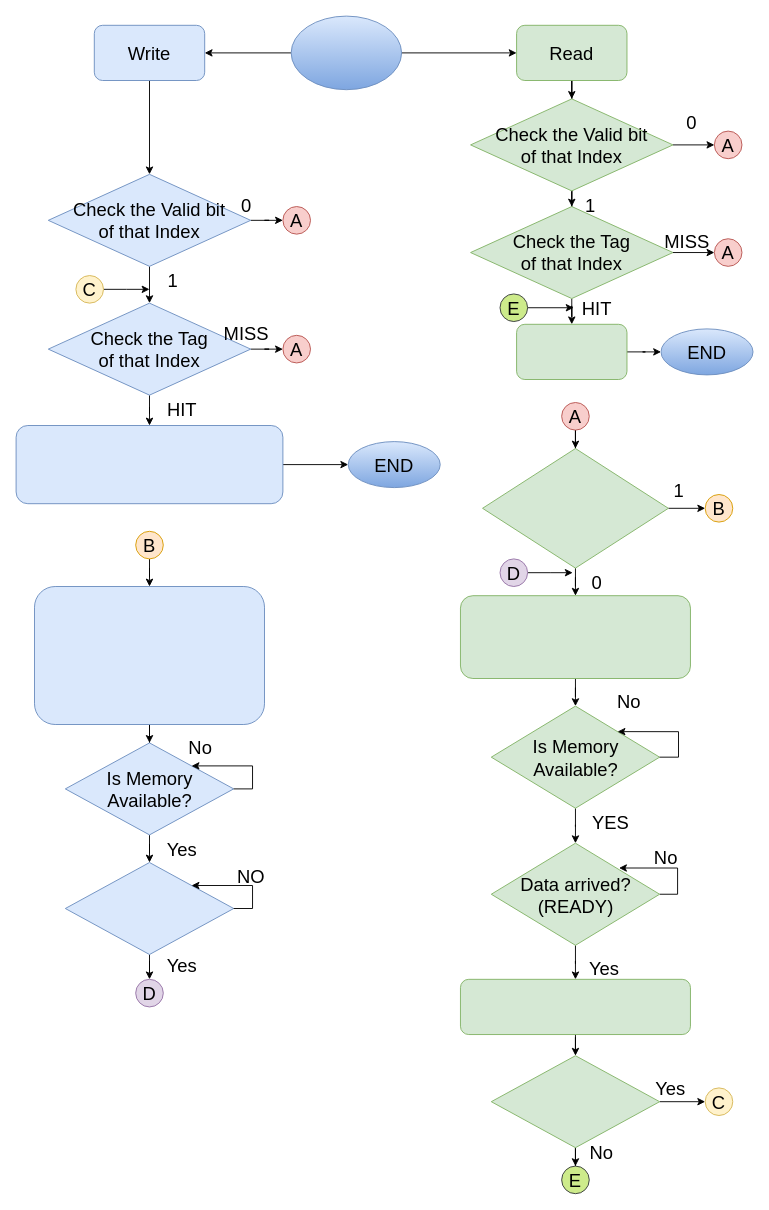
The diagram is 769 pixels wide and 1210 high, and some of its shapes have lost their labels. Each missing label, with the box of its shape:
Check Dirty Bit of that Index!: (482, 448, 668, 568)
Extract Data from Cache: (516, 323, 627, 380)
Main Memo Finished?: (64, 862, 234, 954)
Memory Operation: (290, 15, 402, 90)
Request Data from Main Memory at the Input Address: (460, 595, 690, 678)
Update the Cache: (460, 978, 690, 1035)
Was this a Write?: (490, 1055, 660, 1148)
Write Data into Main Memory at the its Address adr = [old_Tag:Index]: (34, 586, 264, 724)
Write the data into Cache and set the Dirty bit: (15, 425, 283, 504)
